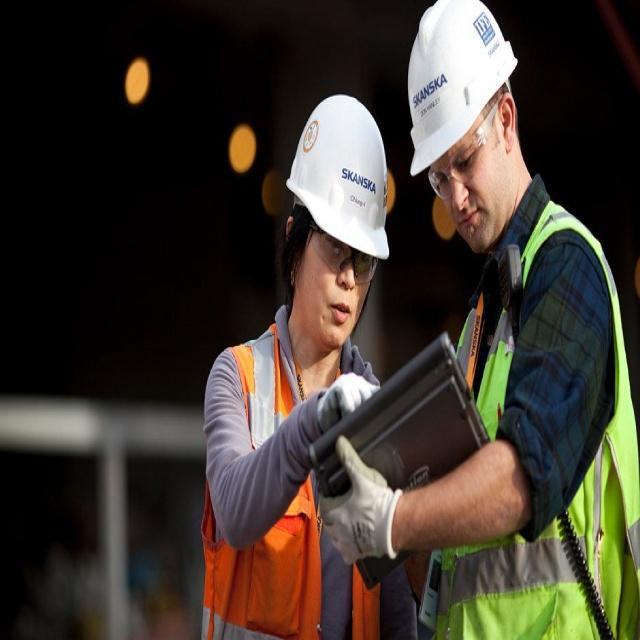helmet: (406, 1, 523, 331), (282, 118, 390, 474)
vest: (442, 323, 635, 640), (212, 460, 397, 640)
